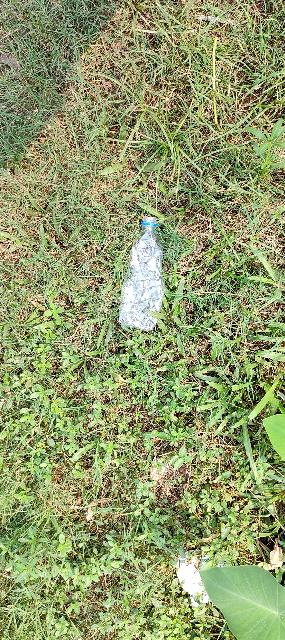bottle: (120, 203, 182, 345)
